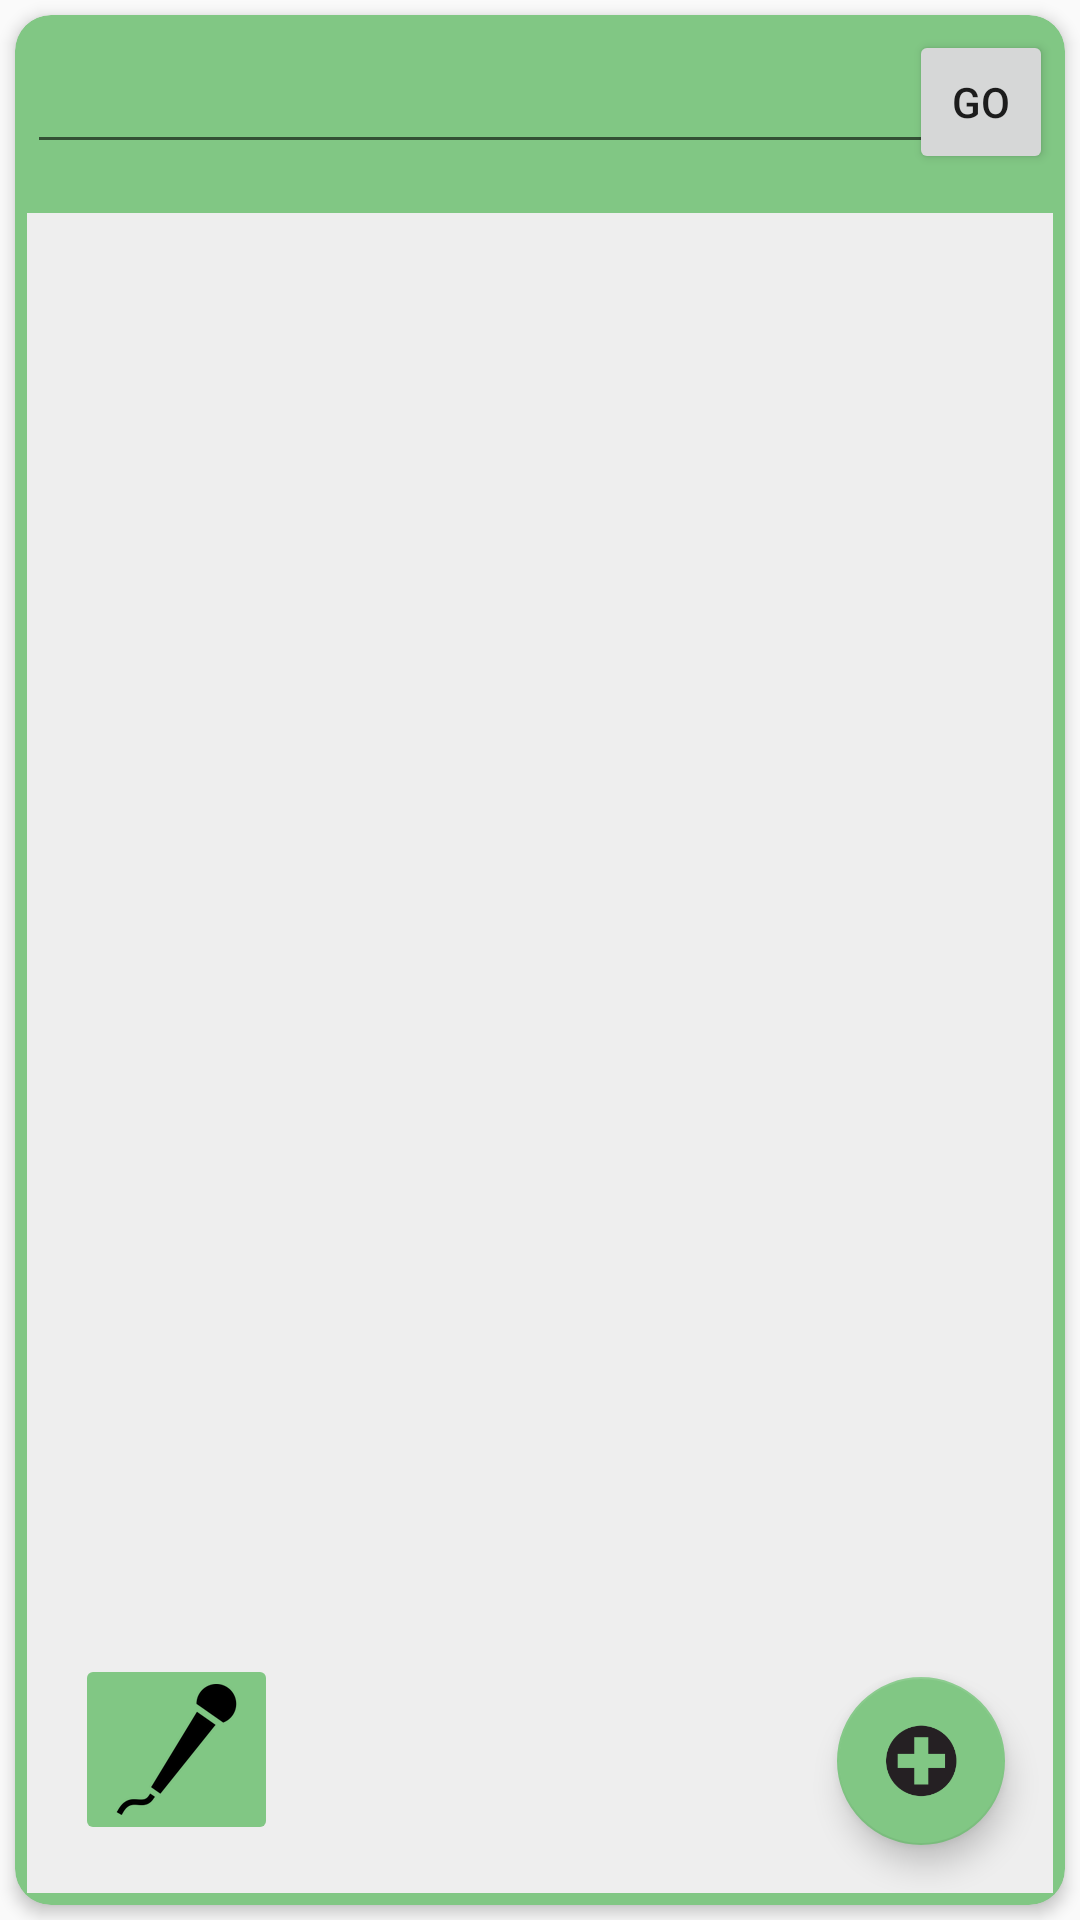

Where icons sit on this 1080 x 1920 app screen, as [left=x1, top=y1, right=x2, bottom=y2]:
mic: [left=87, top=1672, right=266, bottom=1827]
plussign: [left=837, top=1677, right=1005, bottom=1845]
